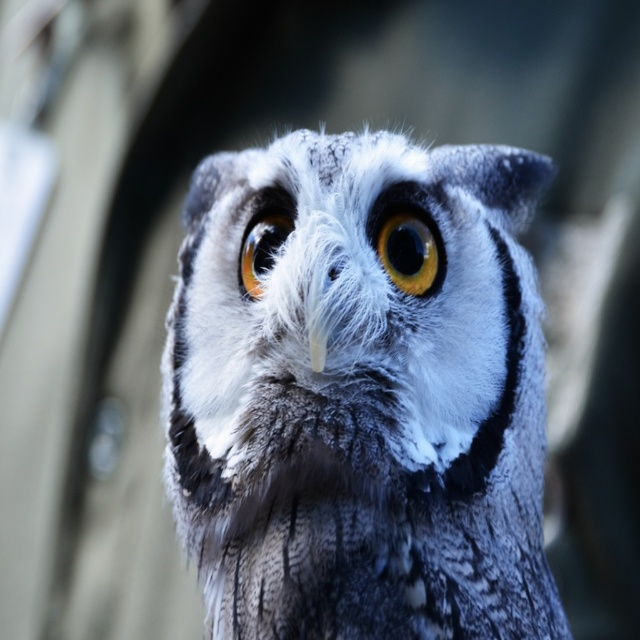Owl: (159, 112, 575, 640)
